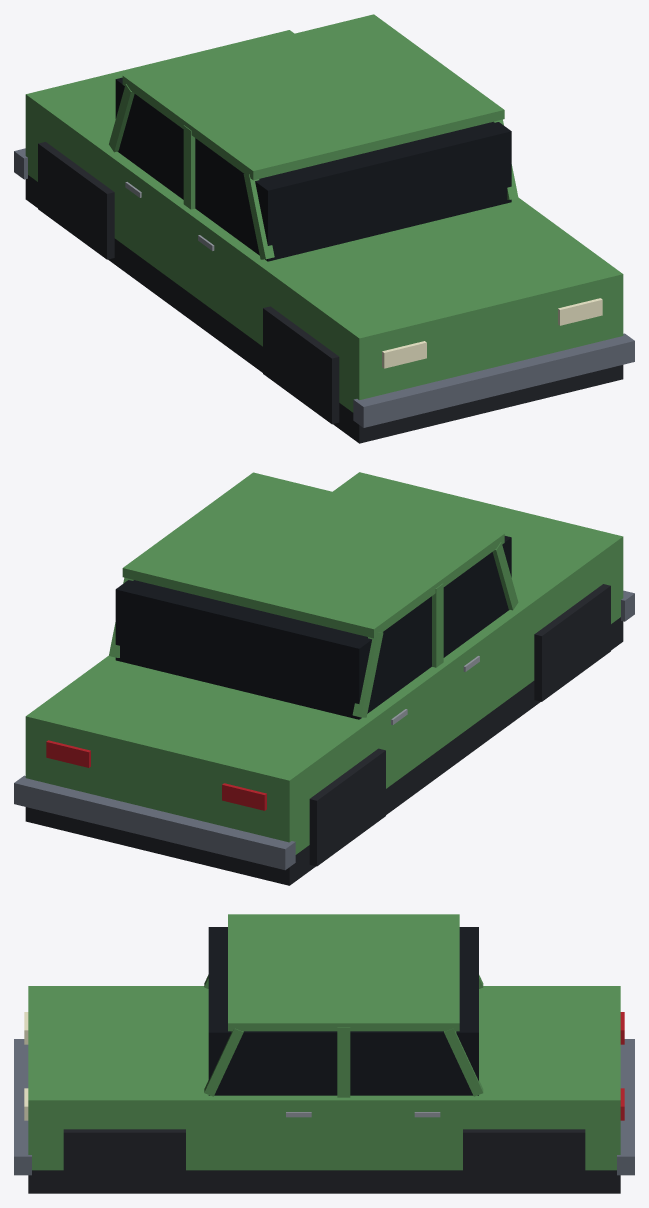
The model's file is traffic_car_2.glb.
3 renders of one model, top to bottom at view 1: azimuth 30°, elevation 25°; view 2: azimuth 150°, elevation 25°; view 3: azimuth 270°, elevation 25°, orthographic. The views are drawn at different scales.
Parts seen in each view (by area): view 1: body, body_getaway_glass, body_car_black, body_car_grey, frame, lights_lamp; view 2: body, body_getaway_glass, body_car_black, body_car_grey, frame, lights_tail; view 3: body, body_car_black, body_getaway_glass, body_car_grey, frame.
Part boxes in pixels (box(x1,y1,x2,y2)): body: box(25, 14, 623, 412); body_getaway_glass: box(115, 77, 511, 261); body_car_black: box(25, 142, 623, 443); body_car_grey: box(14, 148, 634, 427); frame: box(109, 84, 518, 259); lights_lamp: box(382, 298, 602, 368); body: box(25, 472, 623, 854); body_getaway_glass: box(115, 536, 511, 719); body_car_black: box(25, 584, 623, 885); body_car_grey: box(14, 590, 634, 870); frame: box(109, 542, 518, 717); lights_tail: box(46, 740, 266, 810); body: box(28, 914, 620, 1170); body_car_black: box(28, 1129, 620, 1193); body_getaway_glass: box(208, 927, 478, 1095); body_car_grey: box(14, 1039, 634, 1175); frame: box(204, 974, 483, 1097).
Bounding box in the file's own units: 2.22 × 1.44 × 4.82.
